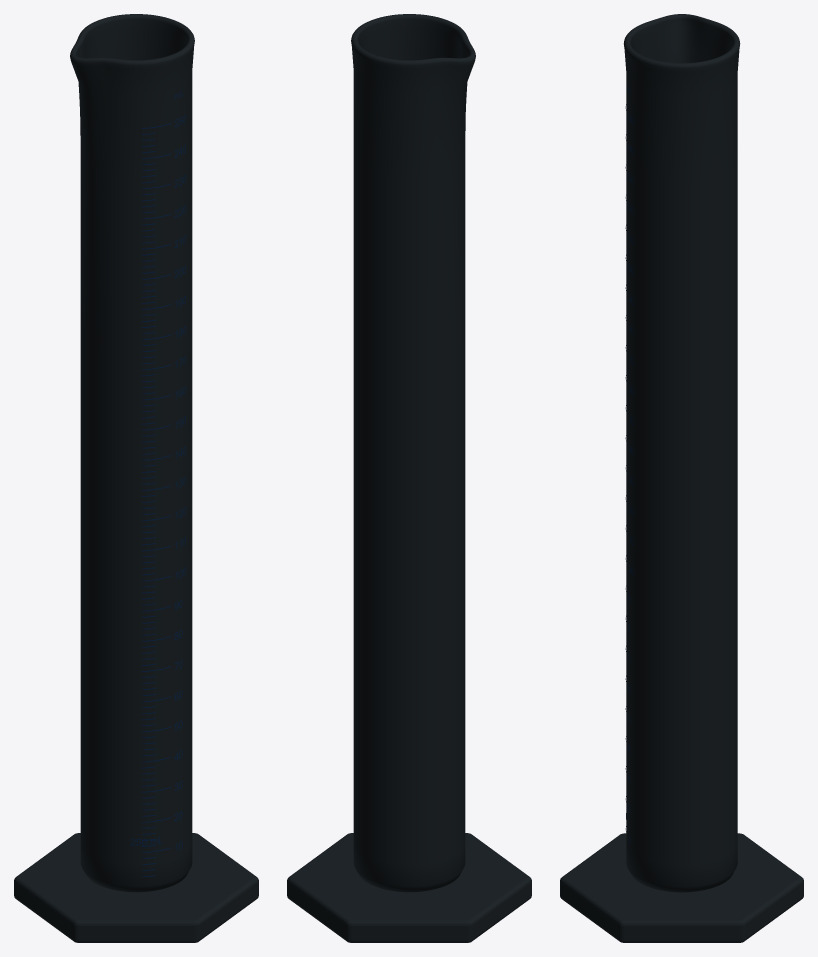
File: proveta_250ml.glb
The picture shows the model from 3 angles, left to right: view 1: azimuth 30°, elevation 25°; view 2: azimuth 150°, elevation 25°; view 3: azimuth 270°, elevation 25°; orthographic projection.
Visible parts, largest first — view 1: Vidre_proveta_250mL, Base_hexagonal_proveta.001, Escala_proveta_1_250mL; view 2: Vidre_proveta_250mL, Base_hexagonal_proveta.001; view 3: Vidre_proveta_250mL, Base_hexagonal_proveta.001, Escala_proveta_1_250mL.
Boxes of the visible parts, <box> form: Vidre_proveta_250mL: <box>70,14,194,892</box>; Base_hexagonal_proveta.001: <box>14,833,258,942</box>; Escala_proveta_1_250mL: <box>142,90,185,877</box>; Vidre_proveta_250mL: <box>351,14,475,892</box>; Base_hexagonal_proveta.001: <box>287,833,531,942</box>; Vidre_proveta_250mL: <box>623,14,740,892</box>; Base_hexagonal_proveta.001: <box>560,833,803,942</box>; Escala_proveta_1_250mL: <box>625,86,633,843</box>.
Bounding box in the file's own units: 0.0723 × 0.3212 × 0.0827.
